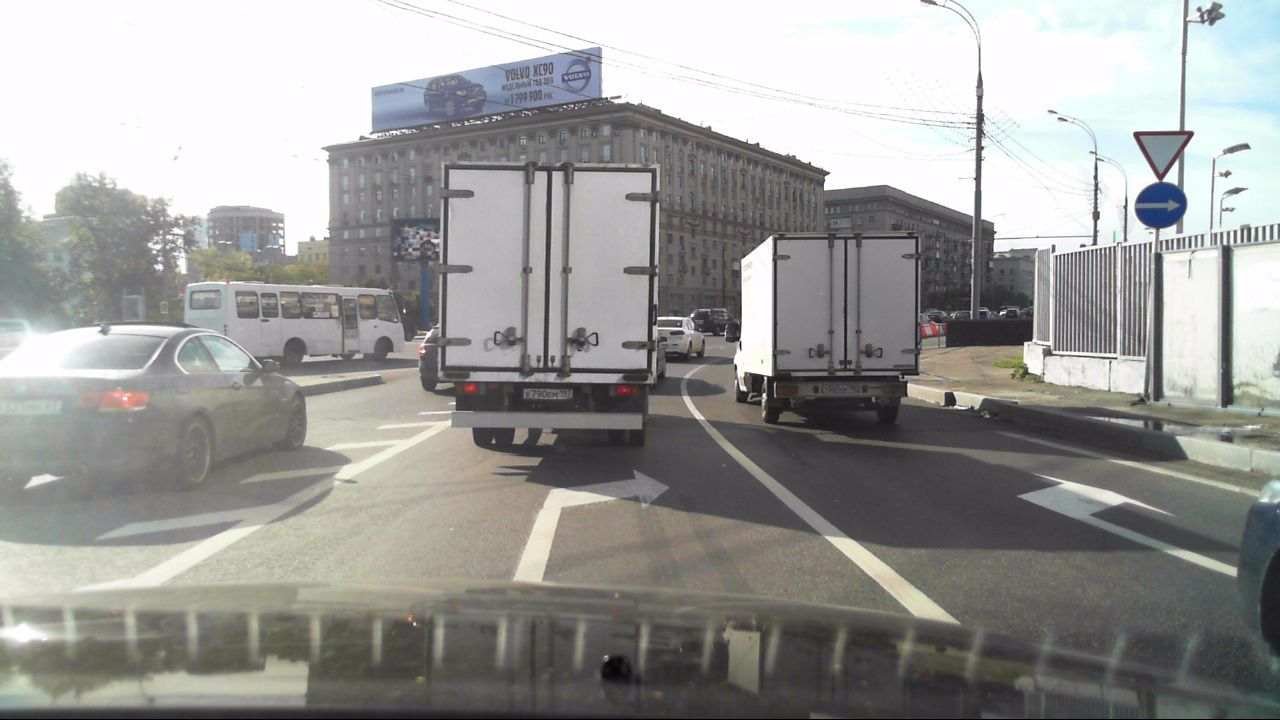Turn Right: (1134, 182, 1188, 229)
